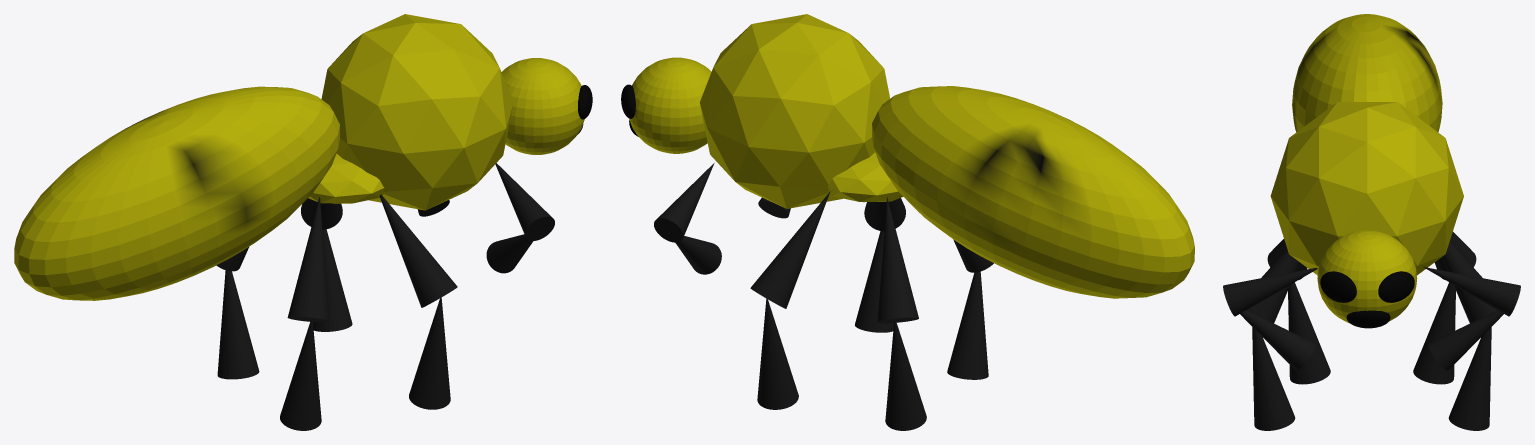
Rendered from beenat.fbx.
3 renders of one model, left to right at view 1: azimuth 30°, elevation 25°; view 2: azimuth 150°, elevation 25°; view 3: azimuth 270°, elevation 25°, orthographic.
Parts seen in each view (by area): view 1: Abdomen, Icosphere, Cone.004, Head, Cone.001, Icosphere.001; view 2: Abdomen, Icosphere, Cone.001, Cone.004, Head, Icosphere.001; view 3: Icosphere, Abdomen, Cone.001, Cone.004, Head, Head.001, Head.002, Head.003.
Part boxes in pixels (bbox=[...]): Abdomen: bbox=[14, 86, 339, 300]; Icosphere: bbox=[321, 14, 513, 210]; Cone.004: bbox=[280, 163, 554, 430]; Head: bbox=[501, 58, 584, 154]; Cone.001: bbox=[216, 198, 449, 379]; Icosphere.001: bbox=[308, 153, 384, 203]; Abdomen: bbox=[872, 86, 1194, 298]; Icosphere: bbox=[700, 14, 889, 208]; Cone.001: bbox=[654, 163, 926, 430]; Cone.004: bbox=[758, 197, 993, 379]; Head: bbox=[629, 57, 711, 153]; Icosphere.001: bbox=[828, 152, 903, 202]; Icosphere: bbox=[1270, 102, 1463, 275]; Abdomen: bbox=[1292, 14, 1442, 132]; Cone.001: bbox=[1413, 232, 1520, 430]; Cone.004: bbox=[1223, 239, 1330, 430]; Head: bbox=[1317, 230, 1417, 323]; Head.001: bbox=[1378, 271, 1414, 302]; Head.002: bbox=[1320, 271, 1356, 302]; Head.003: bbox=[1346, 310, 1390, 328].
Size of the model in its own units: 5.02 by 2.92 by 2.32.
